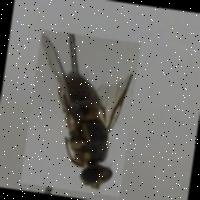Oriental-fruit-fly: (19, 29, 140, 196)
